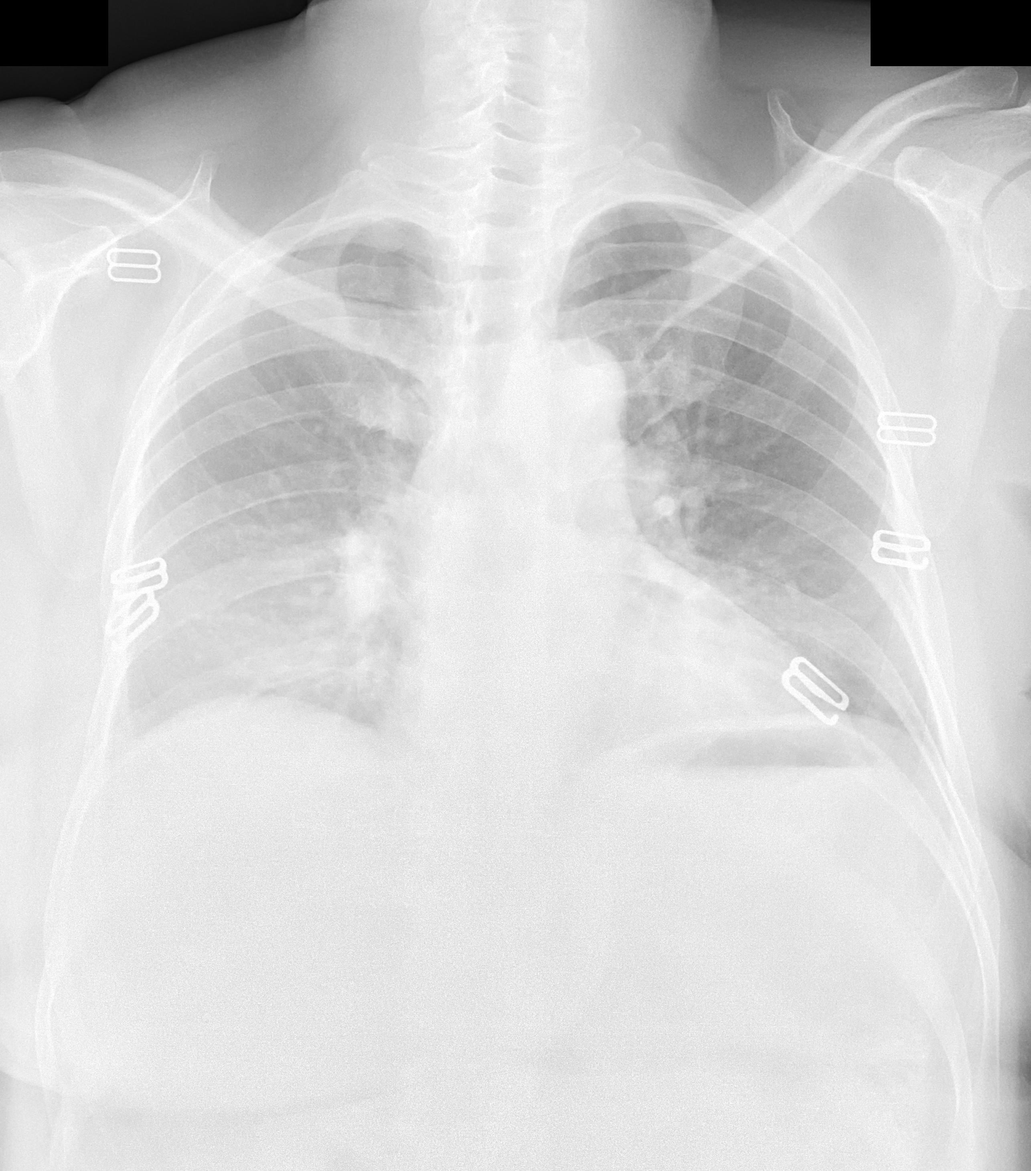Aortic enlargement: (513, 340, 629, 482)
